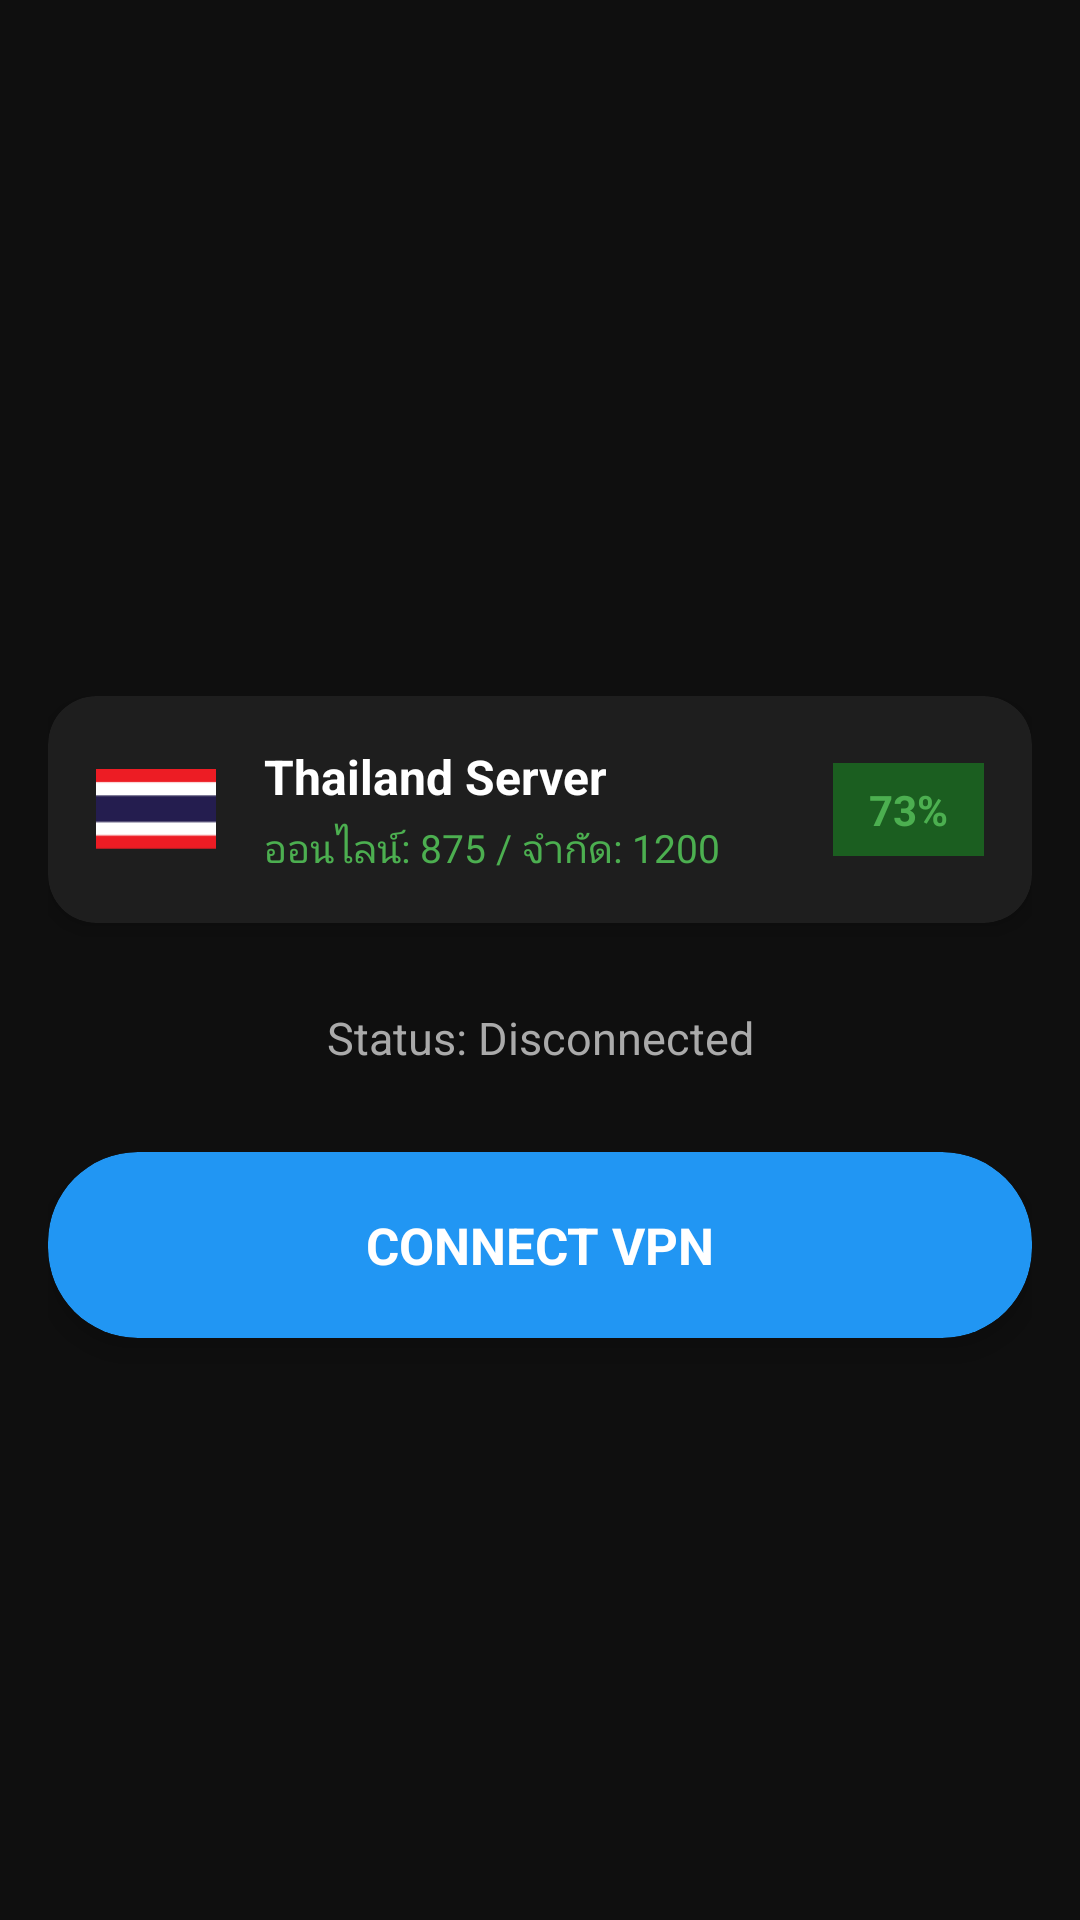

Screen size 1080x1920. Icon name, then its box in pixels as bbox=[x1, y1, x2, y2]:
Flag: bbox=[96, 769, 216, 849]
